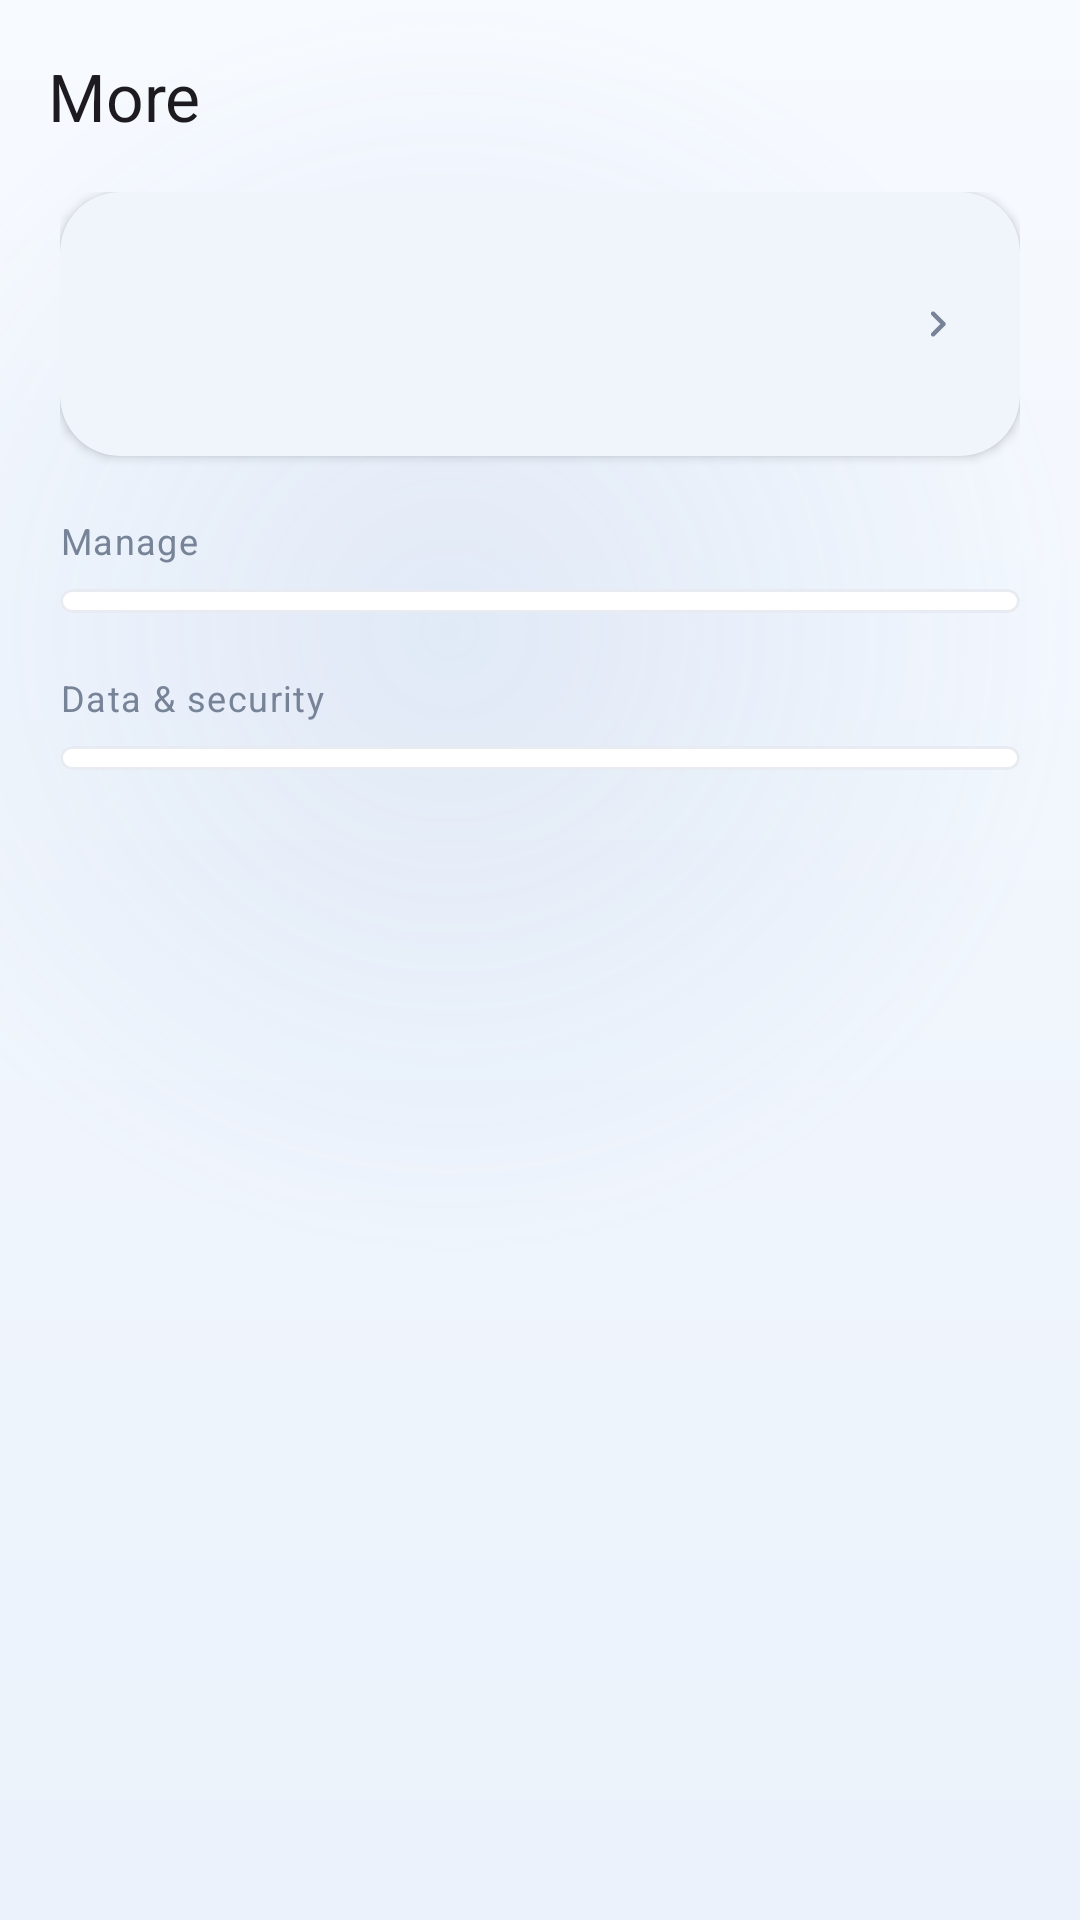

Icon bounding boxes for this 1080px×1920px phone screenshot, format (x1, y1, x2, y2):
chevron right: (931, 311, 946, 337)
